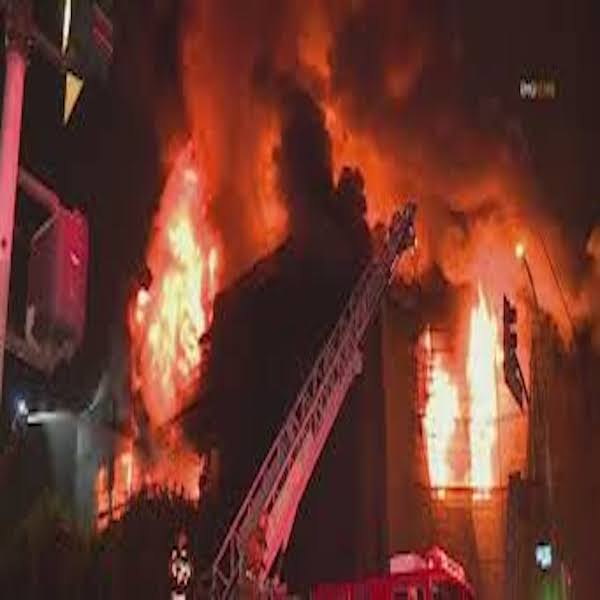fire: (197, 29, 397, 225), (414, 156, 578, 319), (132, 172, 208, 408), (418, 318, 505, 497)
